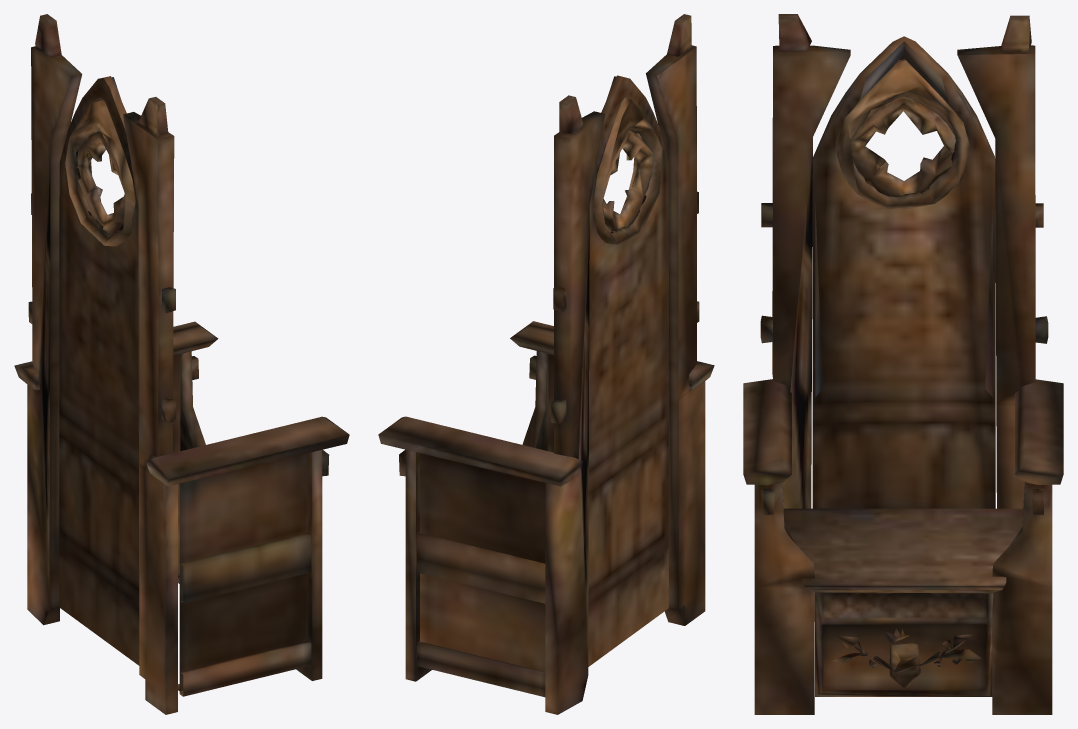
Rendered from throne.lod1.glb.
3 renders of one model, left to right at view 1: azimuth 30°, elevation 25°; view 2: azimuth 150°, elevation 25°; view 3: azimuth 270°, elevation 25°, orthographic. The views are drawn at different scales.
Visible parts, largest first — view 1: Throne_Throne_0; view 2: Throne_Throne_0; view 3: Throne_Throne_0.
Boxes of the visible parts, x1,y1,x2,y2 form: Throne_Throne_0: [14, 14, 349, 714]; Throne_Throne_0: [378, 14, 714, 714]; Throne_Throne_0: [743, 14, 1063, 714].
Size of the model in its own units: 0.6911 by 2.2 by 1.02.
Materials: 1 (1 with a texture image).
